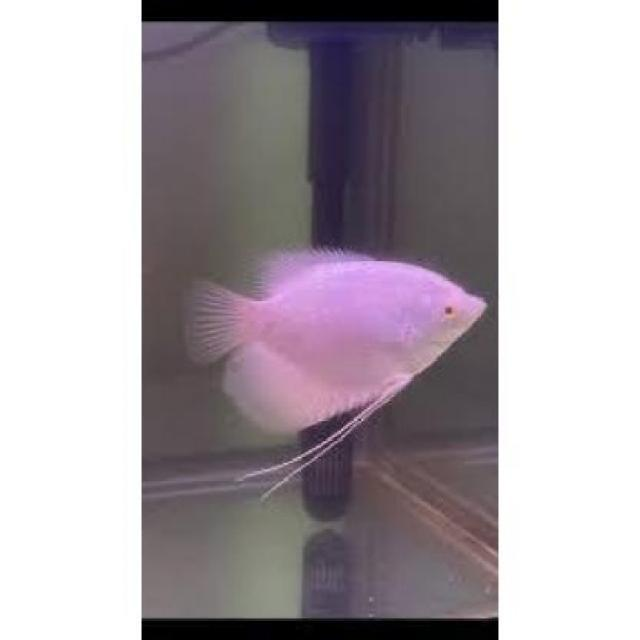gurame: (172, 250, 496, 456)
